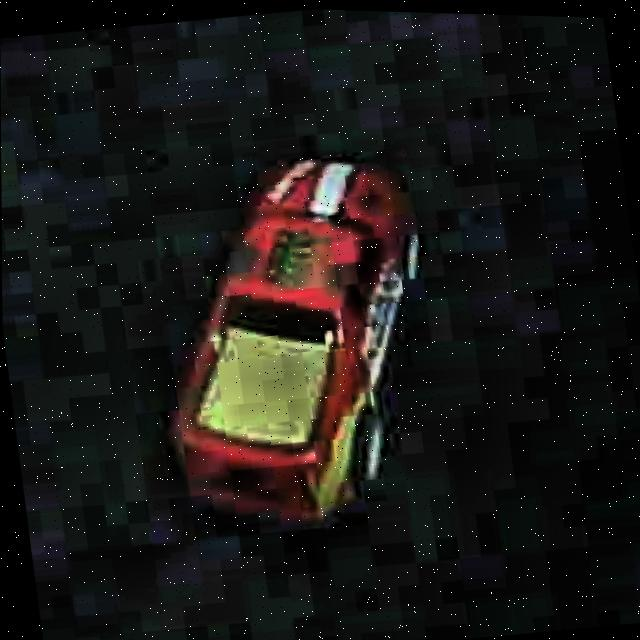car: (126, 119, 461, 547)
